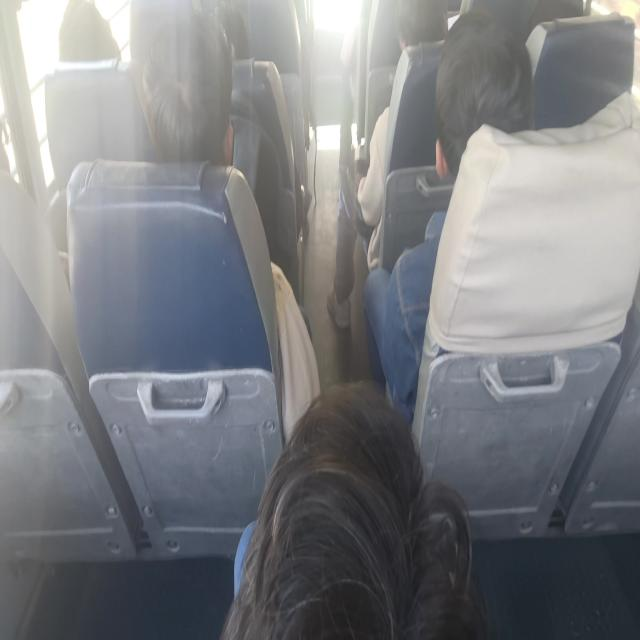person: (229, 374, 473, 640), (432, 26, 536, 190), (140, 21, 237, 176), (53, 0, 122, 68), (197, 0, 255, 62), (397, 0, 445, 59), (528, 0, 593, 41)
